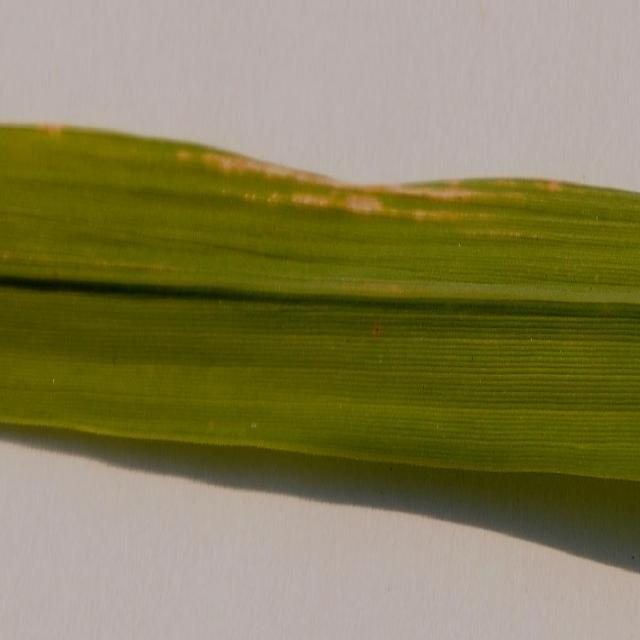Bacterial_Leaf_Blight: (115, 131, 586, 209)
